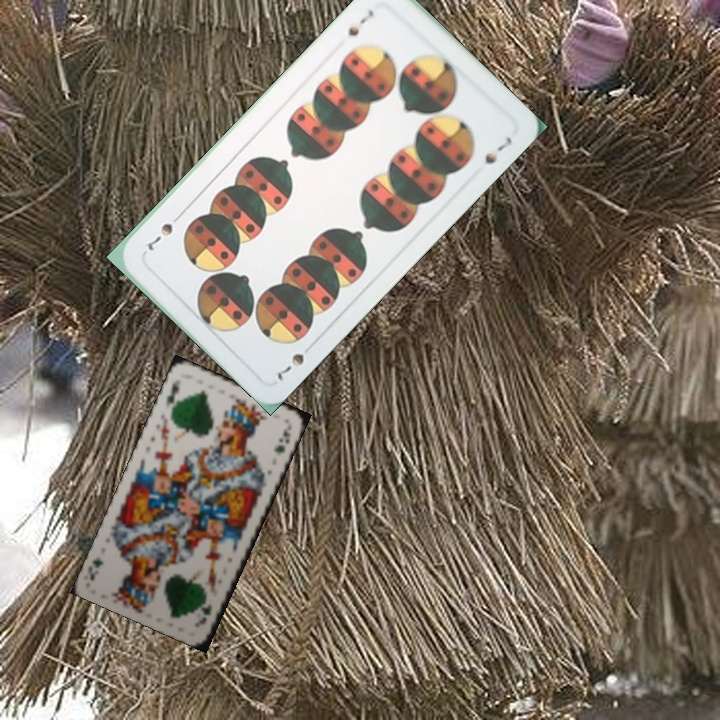GK: (161, 375, 182, 410), (195, 601, 214, 626)
S7: (273, 349, 307, 384), (344, 5, 376, 39)
